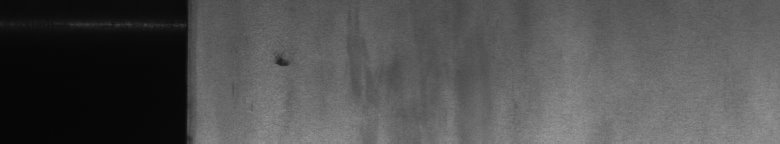fi: (268, 52, 296, 72)
